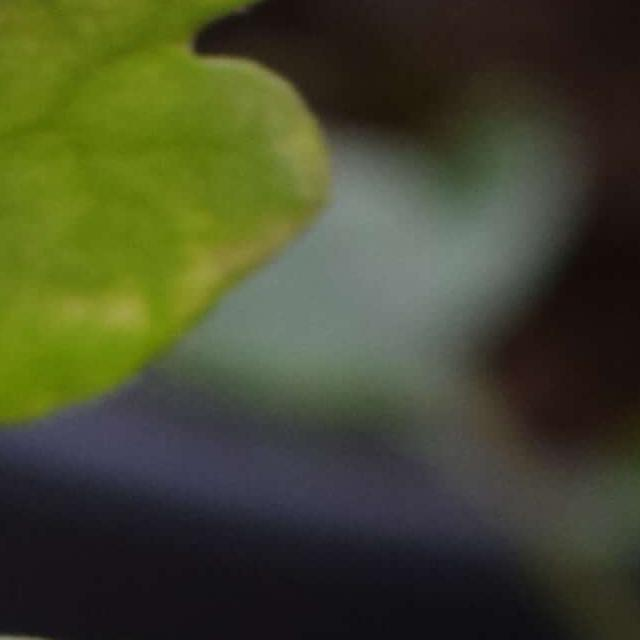Tomato mold leaf: (0, 0, 640, 460), (0, 555, 640, 640)
